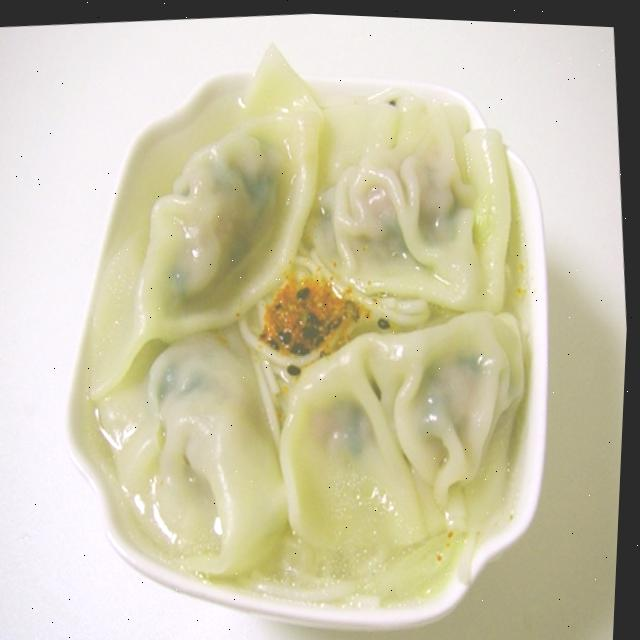带馅早点: (41, 19, 593, 640)
